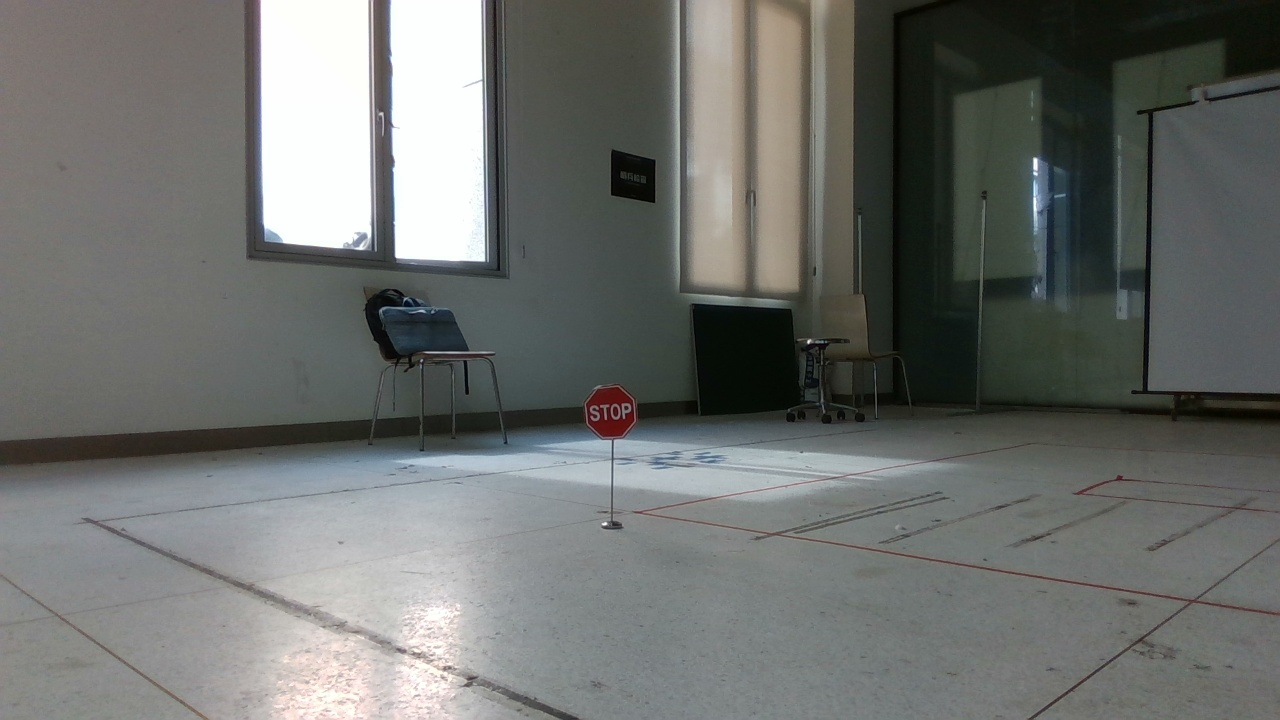stop_sign: (557, 357, 654, 455)
